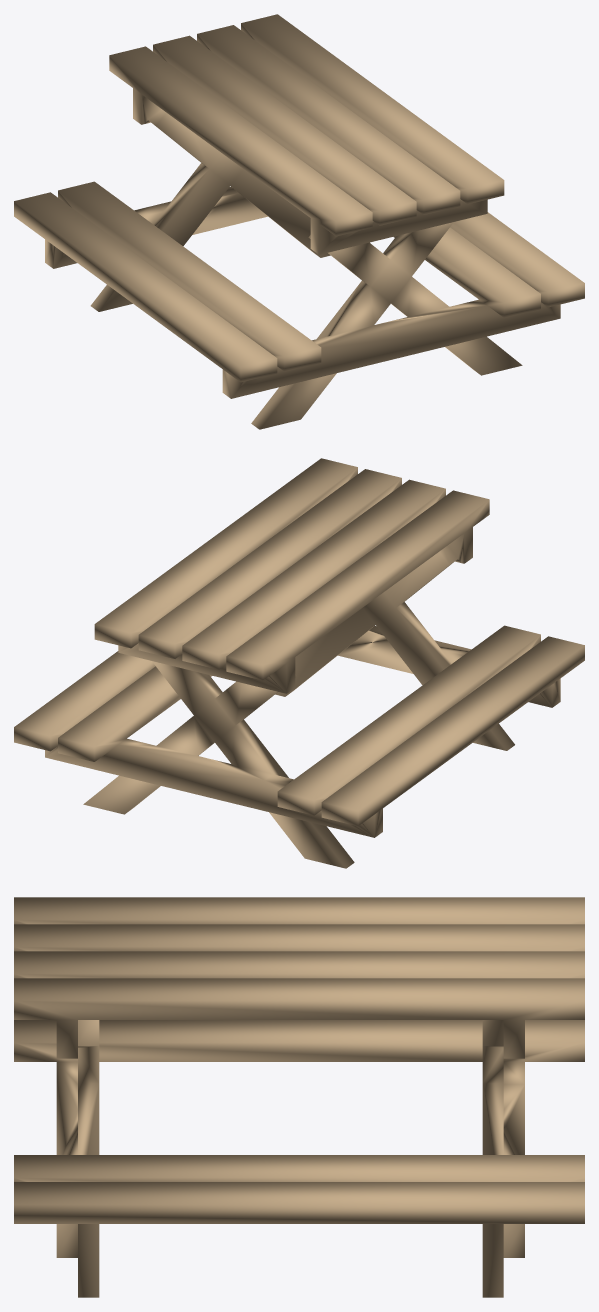
Rendered from picnic-table.glb.
3 views of the same model, one above another, from view 1: azimuth 30°, elevation 25°; view 2: azimuth 150°, elevation 25°; view 3: azimuth 270°, elevation 25° (orthographic). The views are drawn at different scales.
Parts seen in each view (by area): view 1: picnic-table; view 2: picnic-table; view 3: picnic-table.
Boxes of the visible parts, x1,y1,x2,y2 form: picnic-table: (14,14,584,429); picnic-table: (14,458,584,868); picnic-table: (14,897,584,1297).
Size of the model in its own units: 1.58 by 0.9398 by 1.8.
